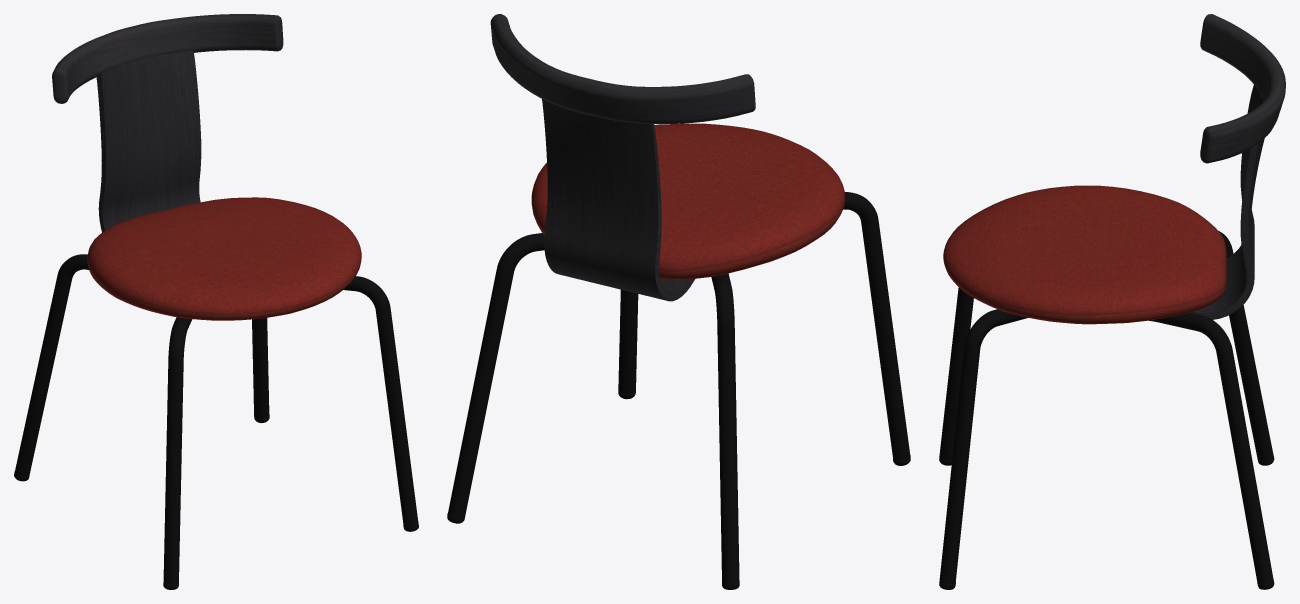
Rendered from JiroDiningChairUpholstered_BlkOakBlkBase_ModeByMaharam_Adler.glb.
3 views of the same model, side by side, from view 1: azimuth 30°, elevation 25°; view 2: azimuth 150°, elevation 25°; view 3: azimuth 270°, elevation 25° (orthographic). The views are drawn at different scales.
Parts seen in each view (by area): view 1: Jiro_UpholsteredSwivelChair_4Leg; view 2: Jiro_UpholsteredSwivelChair_4Leg; view 3: Jiro_UpholsteredSwivelChair_4Leg.
Boxes of the visible parts, x1=… form: Jiro_UpholsteredSwivelChair_4Leg: x1=14, y1=14, x2=418, y2=589; Jiro_UpholsteredSwivelChair_4Leg: x1=447, y1=14, x2=910, y2=589; Jiro_UpholsteredSwivelChair_4Leg: x1=939, y1=14, x2=1285, y2=589.
Bounding box in the file's own units: 0.47 × 0.7573 × 0.5224.
Materials: 1 (1 with a texture image).
